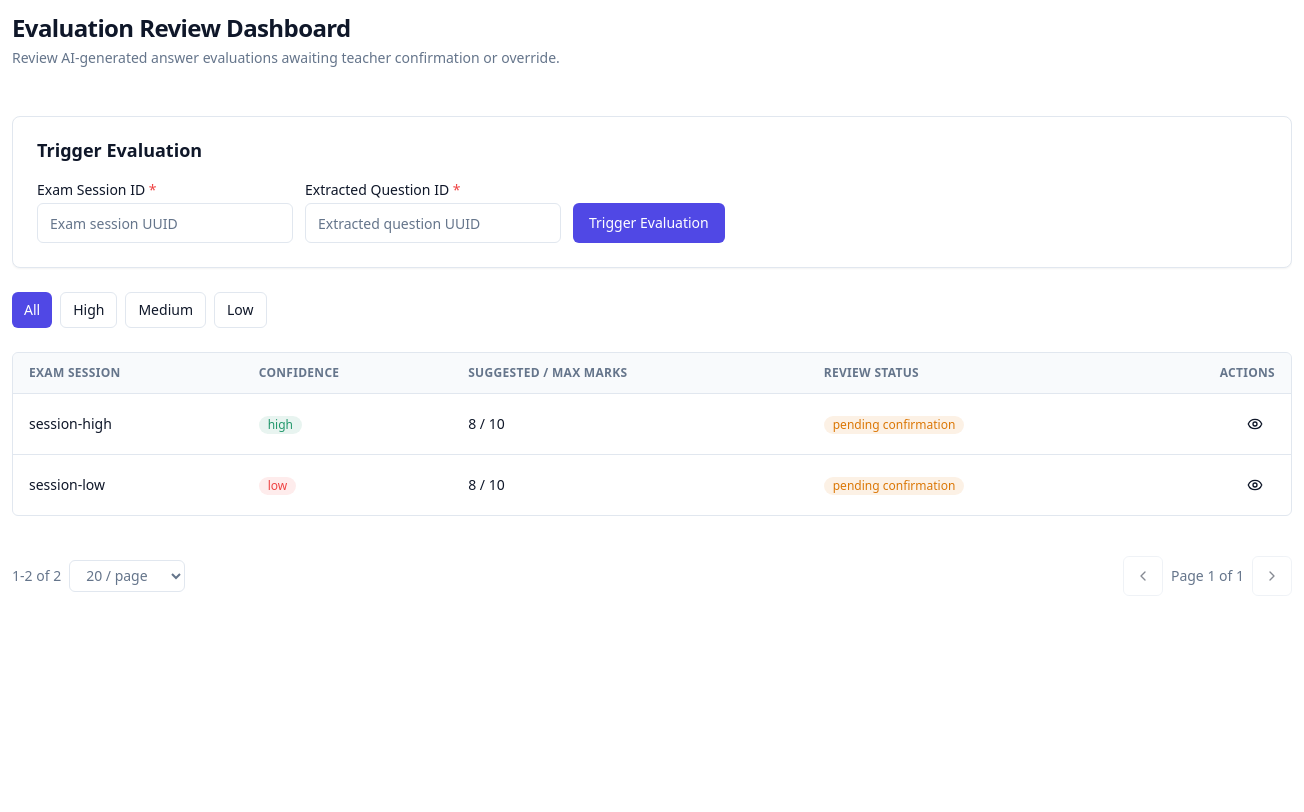
Scenario: EvaluationReviewDashboardPage › filters the list client-side by confidence tier
Expected: the text "session-high" is shown, [13,393,243,454]
Expected: the text "session-low" is shown, [13,454,243,514]
Click the button "High". click: [89, 310]
box: [60,292,118,328]
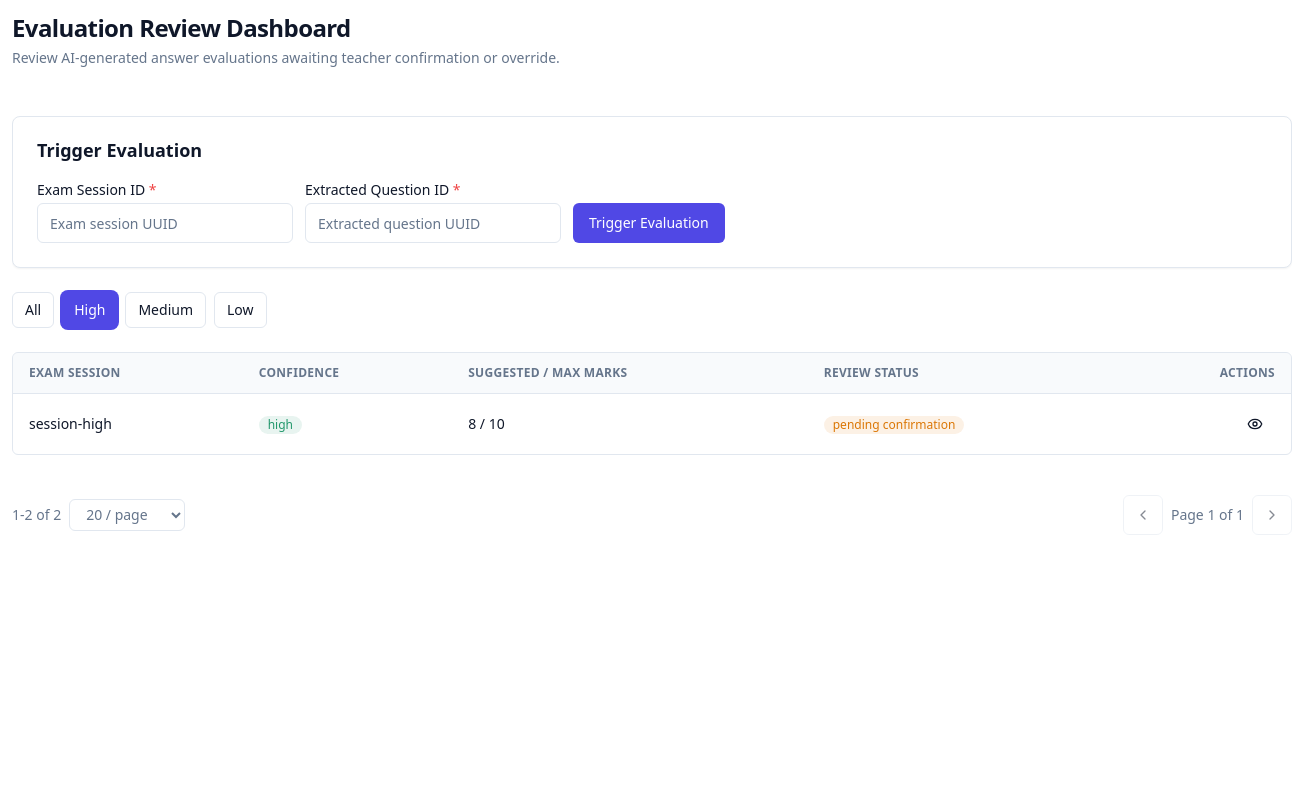
Expected: the text "session-high" is shown, [13,393,243,454]
Expected: the text "session-low" is gone
